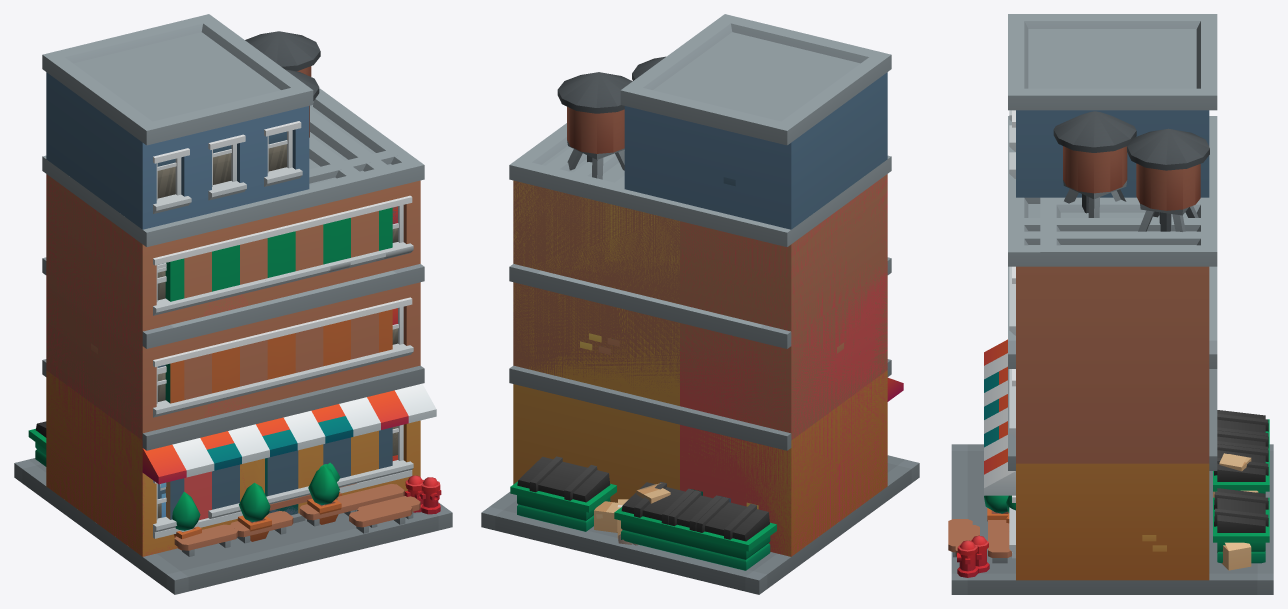
Rendered from city.glb.
3 views of the same model, side by side, from view 1: azimuth 30°, elevation 25°; view 2: azimuth 150°, elevation 25°; view 3: azimuth 270°, elevation 25° (orthographic).
Visible parts, largest first — view 1: building_E, building_H, building_F, building_D, building_G, building_B, building_A, building_C; view 2: building_E, building_F, building_H, building_D, building_G, building_C, building_B, building_A; view 3: building_E, building_H, building_D, building_C, building_G, building_B, building_F, building_A.
Boxes of the visible parts, box(x1,y1,x2,y2) form: building_E: box(42, 105, 436, 556); building_H: box(28, 14, 420, 533); building_F: box(46, 175, 424, 556); building_D: box(15, 69, 452, 594); building_G: box(42, 88, 441, 532); building_B: box(170, 270, 396, 543); building_A: box(203, 277, 423, 513); building_C: box(14, 135, 360, 594); building_E: box(509, 146, 903, 556); building_F: box(511, 177, 889, 556); building_H: box(557, 14, 891, 570); building_D: box(482, 56, 918, 580); building_G: box(509, 123, 891, 563); building_C: box(481, 150, 919, 594); building_B: box(537, 270, 763, 547); building_A: box(565, 277, 734, 495); building_E: box(972, 197, 1269, 580); building_H: box(955, 14, 1269, 570); building_D: box(948, 111, 1273, 580); building_C: box(951, 204, 1273, 594); building_G: box(957, 116, 1269, 577); building_B: box(988, 266, 1269, 531); building_F: box(984, 340, 1216, 563); building_A: box(971, 371, 1015, 573).
Size of the model in its own units: 2.01 by 3.11 by 2.02.
Materials: 1 (1 with a texture image).
